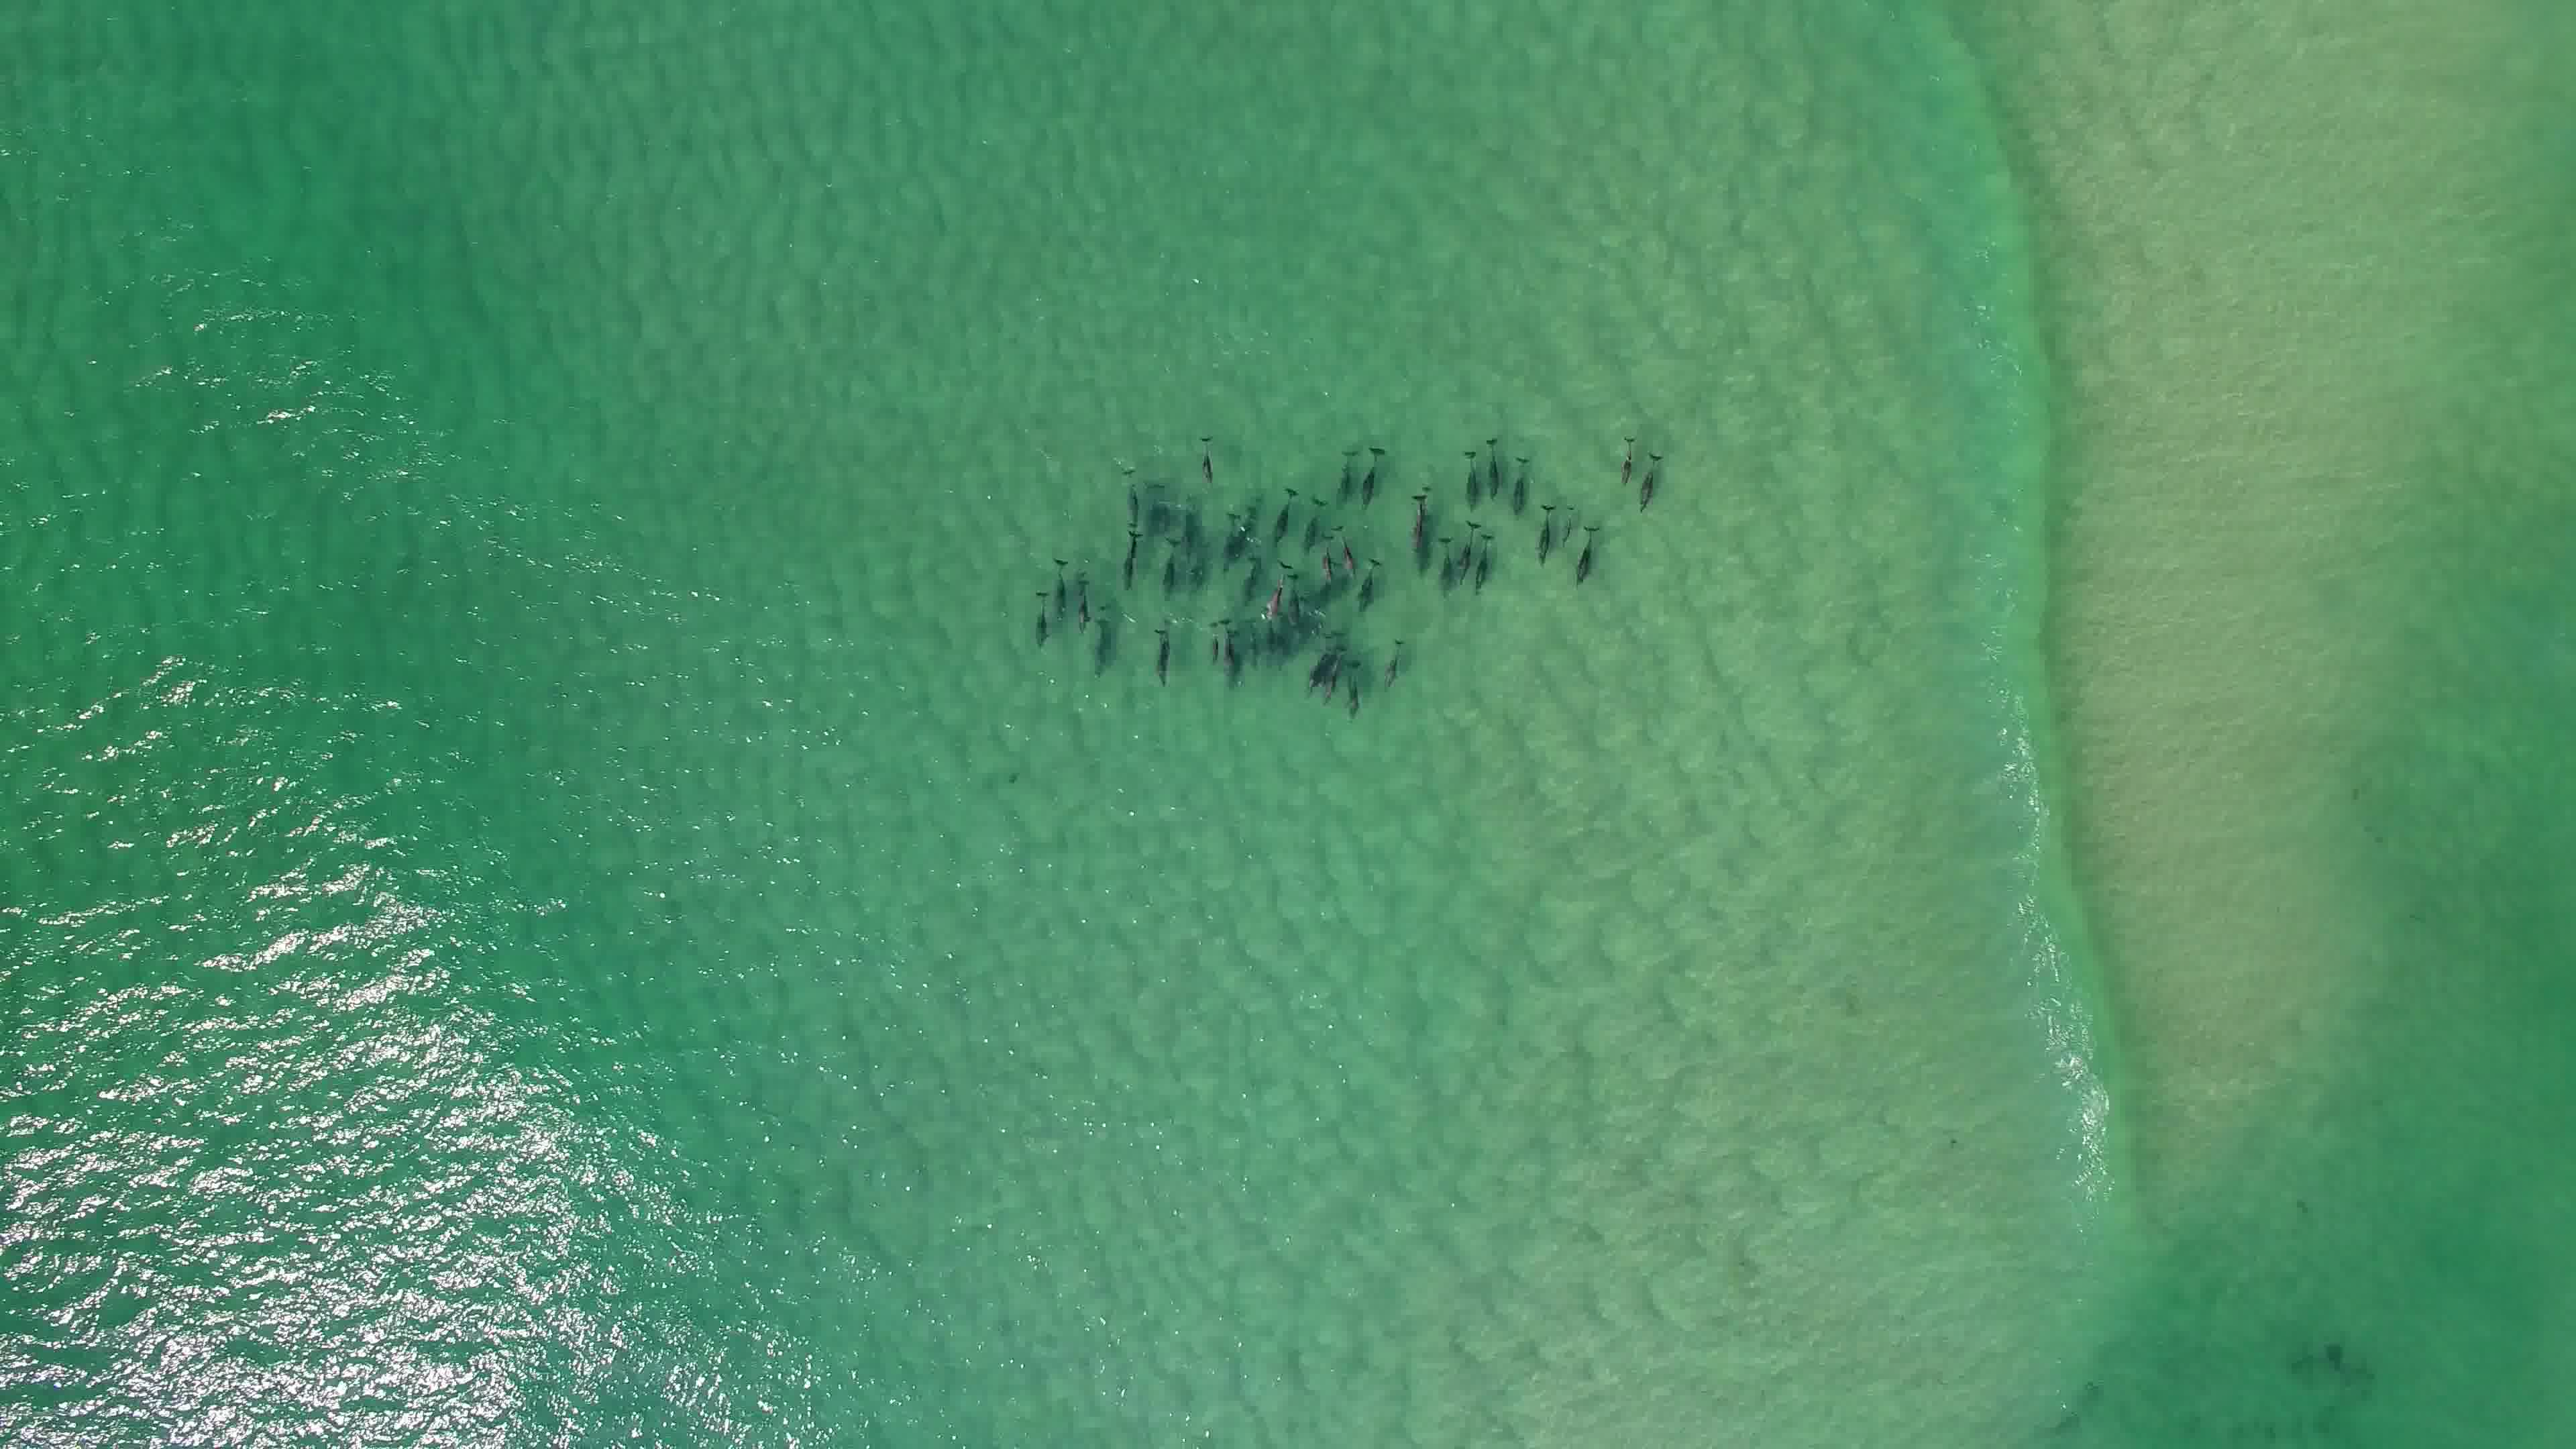dolphin: (1290, 478, 1332, 561), (1566, 511, 1606, 594), (1398, 479, 1438, 563), (1373, 626, 1414, 706), (1603, 425, 1647, 497), (1353, 437, 1392, 517), (1633, 442, 1672, 518), (1329, 435, 1368, 511), (1049, 554, 1086, 630), (1454, 441, 1491, 513), (1313, 632, 1348, 708), (1210, 614, 1246, 690), (1477, 430, 1511, 510), (1214, 504, 1249, 579), (1261, 483, 1302, 547), (1150, 610, 1185, 683), (1113, 460, 1148, 531), (1506, 446, 1537, 522), (1336, 653, 1371, 718), (1150, 527, 1185, 593), (1327, 522, 1364, 584), (1030, 584, 1065, 646), (1532, 494, 1560, 570), (1277, 571, 1311, 635), (1468, 529, 1499, 598), (1357, 550, 1385, 621), (1067, 573, 1099, 633), (1116, 527, 1145, 594), (1194, 430, 1224, 492), (1431, 527, 1456, 598), (1454, 508, 1477, 584), (1263, 557, 1286, 626)
